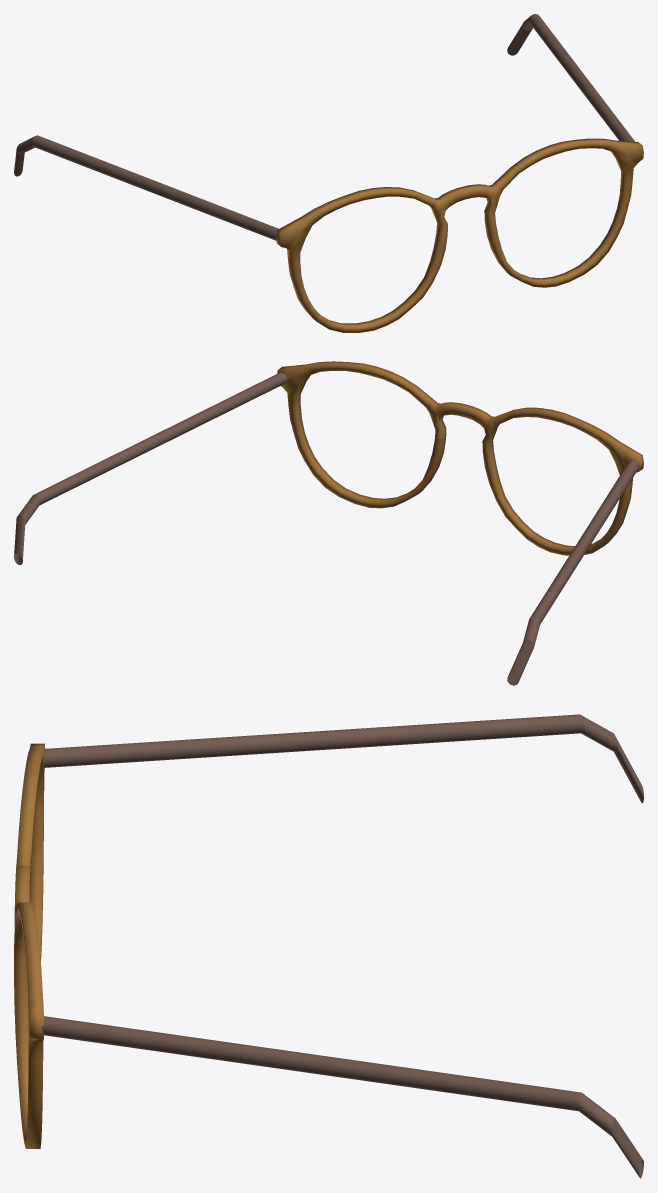
The model's file is Dave_Brille2.fbx.
The picture shows the model from 3 angles, top to bottom: view 1: azimuth 30°, elevation 25°; view 2: azimuth 150°, elevation 25°; view 3: azimuth 270°, elevation 25°; orthographic projection. The views are drawn at different scales.
Visible parts, largest first — view 1: Brille2, Brillen-gestell; view 2: Brille2, Brillen-gestell; view 3: Brillen-gestell, Brille2.
Boxes of the visible parts, <box> form: Brille2: <box>276,138,643,332</box>; Brillen-gestell: <box>14,14,634,240</box>; Brille2: <box>277,361,643,555</box>; Brillen-gestell: <box>14,372,639,685</box>; Brillen-gestell: <box>41,714,643,1178</box>; Brille2: <box>14,743,44,1148</box>.
Bounding box in the file's own units: 215 × 55.1 × 146.
